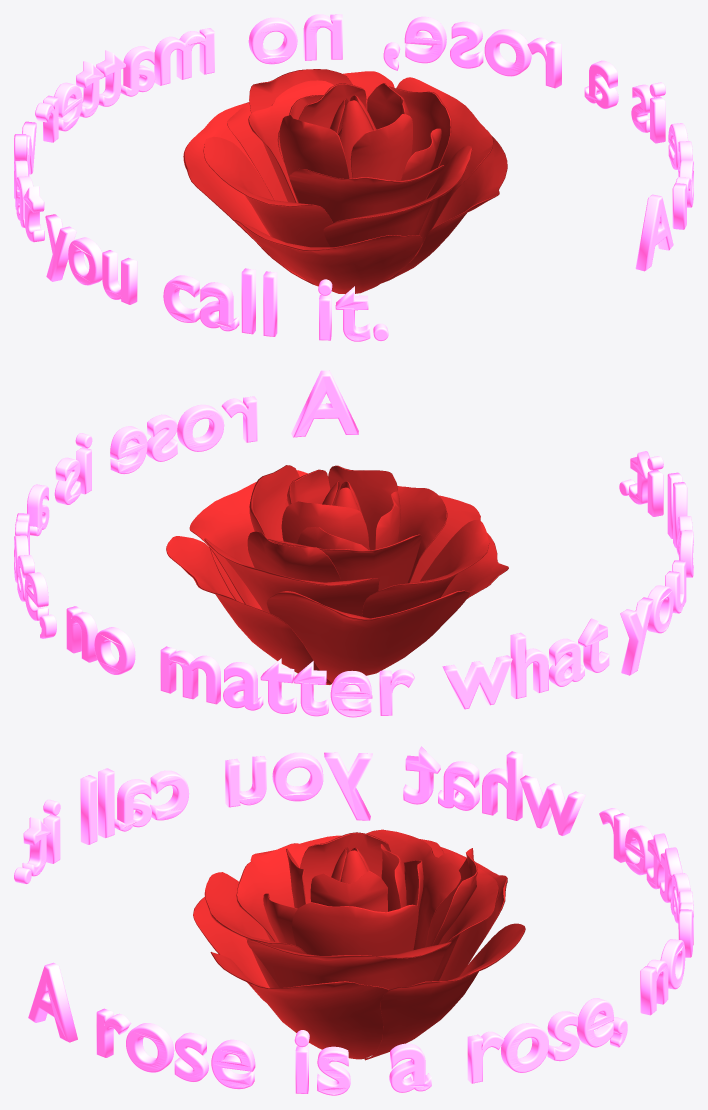
File: roseGLASS_TEXT.glb
The picture shows the model from 3 angles, top to bottom: view 1: azimuth 30°, elevation 25°; view 2: azimuth 150°, elevation 25°; view 3: azimuth 270°, elevation 25°; orthographic projection. The views are drawn at different scales.
Parts seen in each view (by area): view 1: node_id30_1, Text001; view 2: node_id30_1, Text001; view 3: node_id30_1, Text001.
Part boxes in pixels (bbox=[...]): node_id30_1: bbox=[183, 69, 507, 294]; Text001: bbox=[14, 14, 693, 341]; node_id30_1: bbox=[166, 465, 508, 684]; Text001: bbox=[14, 370, 693, 717]; node_id30_1: bbox=[193, 829, 525, 1060]; Text001: bbox=[14, 746, 693, 1095].
Size of the model in its own units: 0.396 by 0.1252 by 0.3782.
